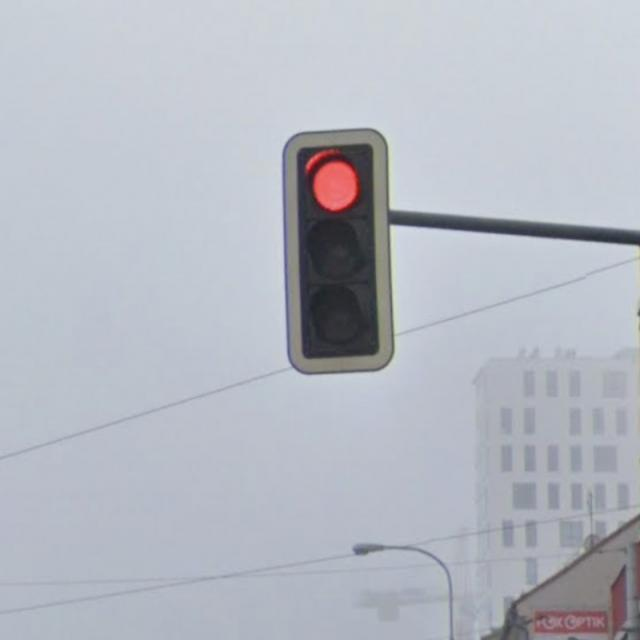red_light: (282, 128, 396, 373)
